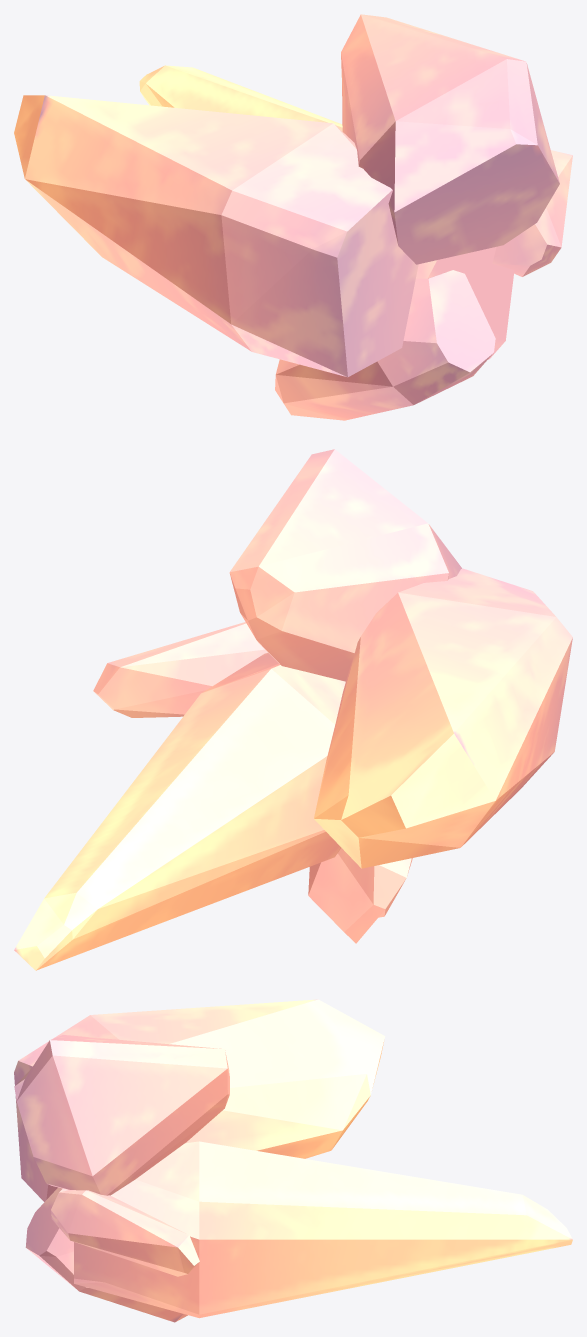
Rendered from SM_DEMOCrystal5_Red.fbx.
3 views of the same model, one above another, from view 1: azimuth 30°, elevation 25°; view 2: azimuth 150°, elevation 25°; view 3: azimuth 270°, elevation 25° (orthographic). The views are drawn at different scales.
Visible parts, largest first — view 1: Crystal5_Red; view 2: Crystal5_Red; view 3: Crystal5_Red.
Boxes of the visible parts, <box> form: Crystal5_Red: <box>14,14,572,420</box>; Crystal5_Red: <box>14,449,572,970</box>; Crystal5_Red: <box>14,999,572,1322</box>.
Bounding box in the file's own units: 397 × 320 × 517.
